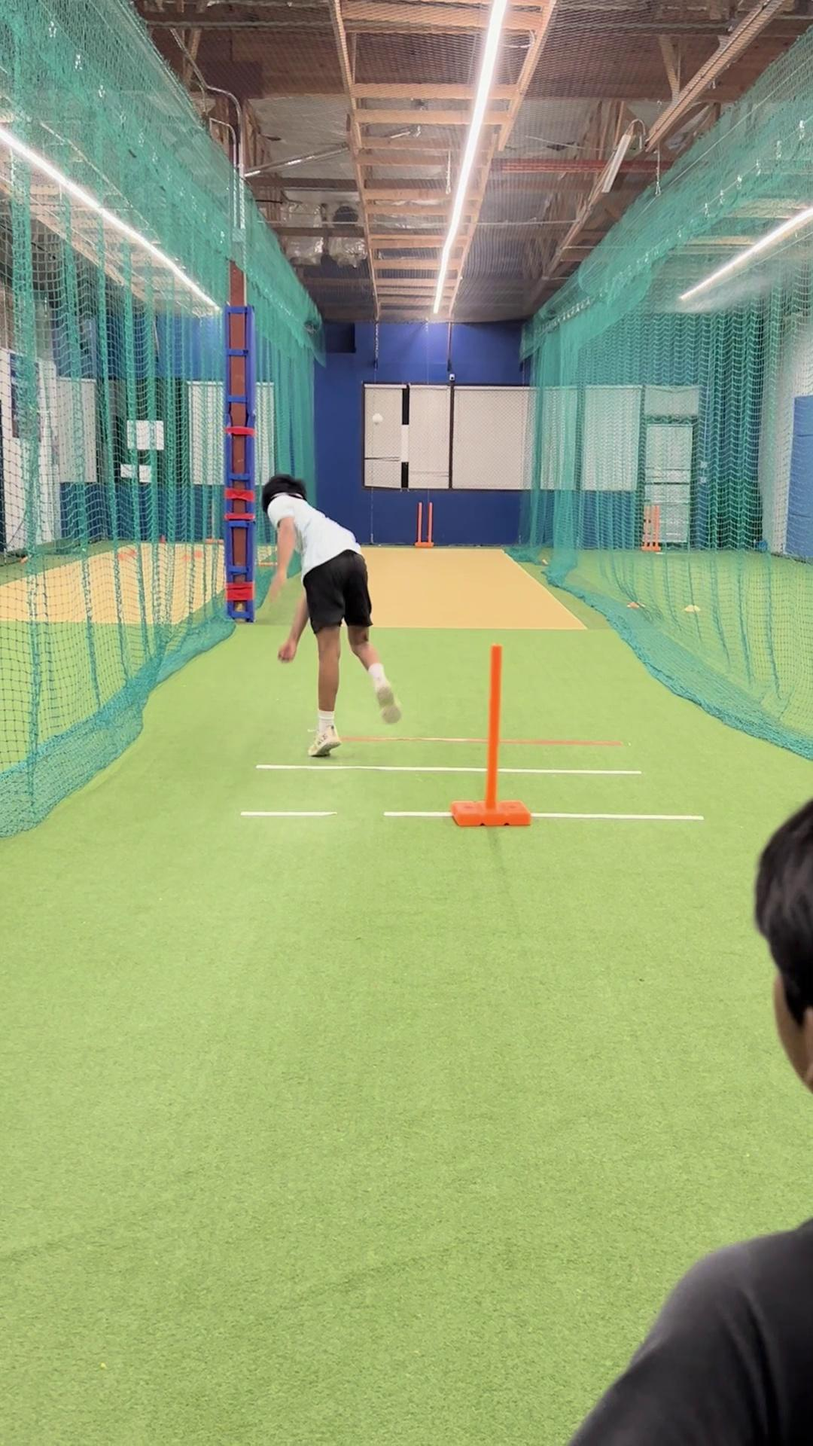ball: (367, 409, 387, 430)
